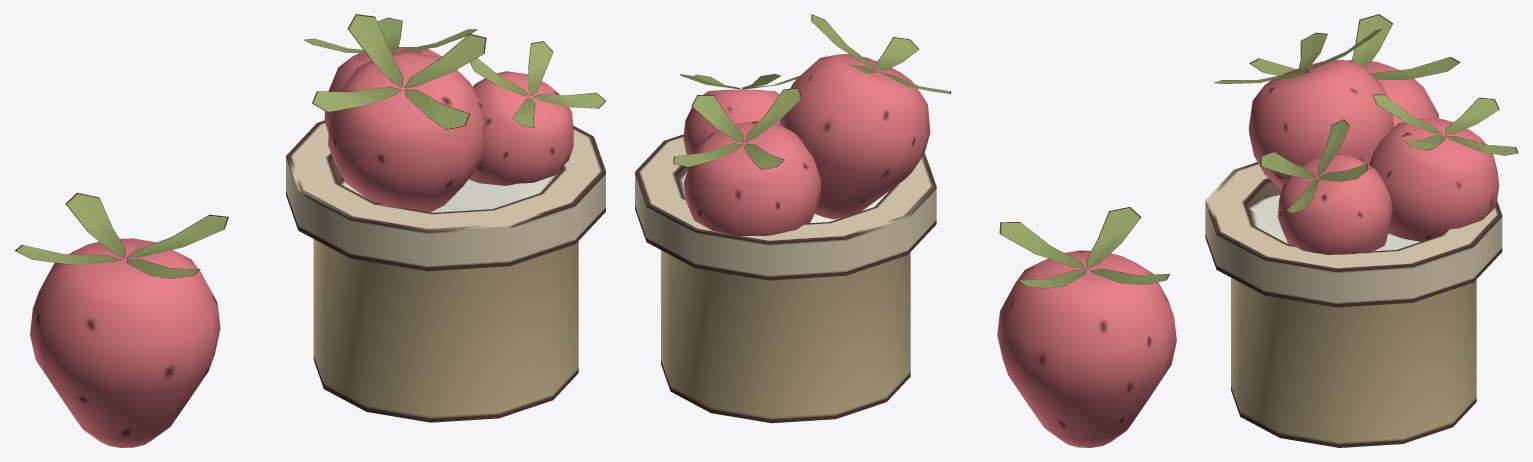
Rendered from Strawberry_Fruit.fbx.
3 renders of one model, left to right at view 1: azimuth 30°, elevation 25°; view 2: azimuth 150°, elevation 25°; view 3: azimuth 270°, elevation 25°, orthographic. The views are drawn at different scales.
Parts seen in each view (by area): view 1: Flour_Packet1, Strawberry_Fruit, Strawberry_Fruit3, Strawberry_Fruit2, Strawberry_Fruit1; view 2: Flour_Packet1, Strawberry_Fruit, Strawberry_Fruit3, Strawberry_Fruit1, Strawberry_Fruit2; view 3: Flour_Packet1, Strawberry_Fruit1, Strawberry_Fruit3, Strawberry_Fruit2, Strawberry_Fruit.
Part boxes in pixels (box(x1,y1,x2,y2)): Flour_Packet1: box(286, 120, 605, 422); Strawberry_Fruit: box(15, 193, 228, 447); Strawberry_Fruit3: box(312, 14, 486, 212); Strawberry_Fruit2: box(469, 41, 605, 185); Strawberry_Fruit1: box(304, 17, 477, 133); Flour_Packet1: box(635, 134, 936, 423); Strawberry_Fruit: box(997, 207, 1176, 447); Strawberry_Fruit3: box(779, 14, 951, 219); Strawberry_Fruit1: box(673, 87, 821, 236); Strawberry_Fruit2: box(680, 74, 799, 154); Flour_Packet1: box(1205, 162, 1502, 447); Strawberry_Fruit1: box(1369, 94, 1518, 241); Strawberry_Fruit3: box(1214, 29, 1393, 189); Strawberry_Fruit2: box(1260, 119, 1392, 254); Strawberry_Fruit: box(1249, 14, 1460, 126).
Bounding box in the file's own units: 1.12 × 0.6883 × 0.5863.
2 materials, 2 textured.
